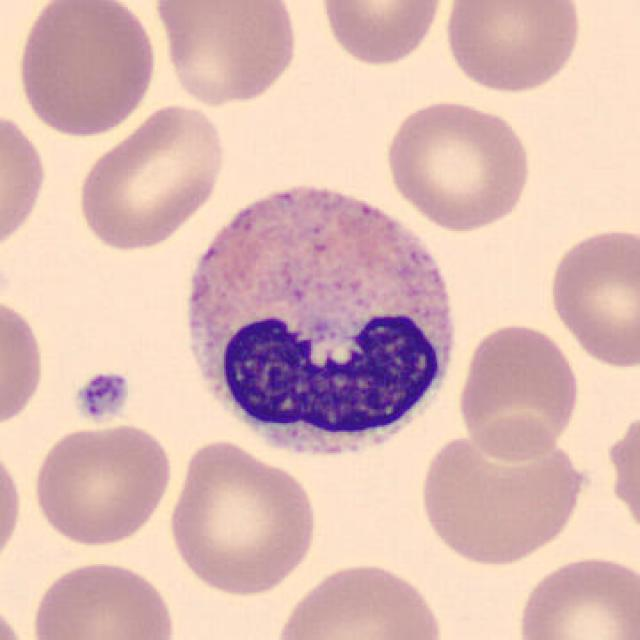Neutrophil: (169, 164, 466, 476)
Platelets: (70, 367, 134, 425)
RBC: (414, 416, 590, 570), (164, 436, 322, 598), (73, 100, 229, 254), (381, 95, 535, 233), (12, 0, 159, 139), (453, 319, 583, 464), (29, 420, 174, 548), (149, 0, 302, 109), (268, 557, 450, 640), (439, 0, 585, 97), (544, 222, 638, 372), (27, 555, 180, 640), (512, 550, 638, 640), (315, 0, 448, 69), (0, 104, 52, 259), (0, 291, 48, 434), (606, 414, 640, 528), (0, 437, 27, 575), (0, 594, 36, 640)
